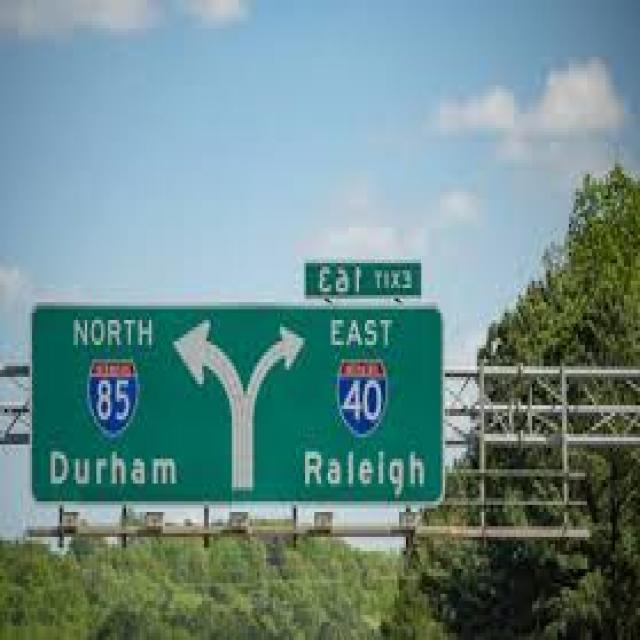street-signs: (30, 301, 446, 508), (304, 258, 422, 301)
